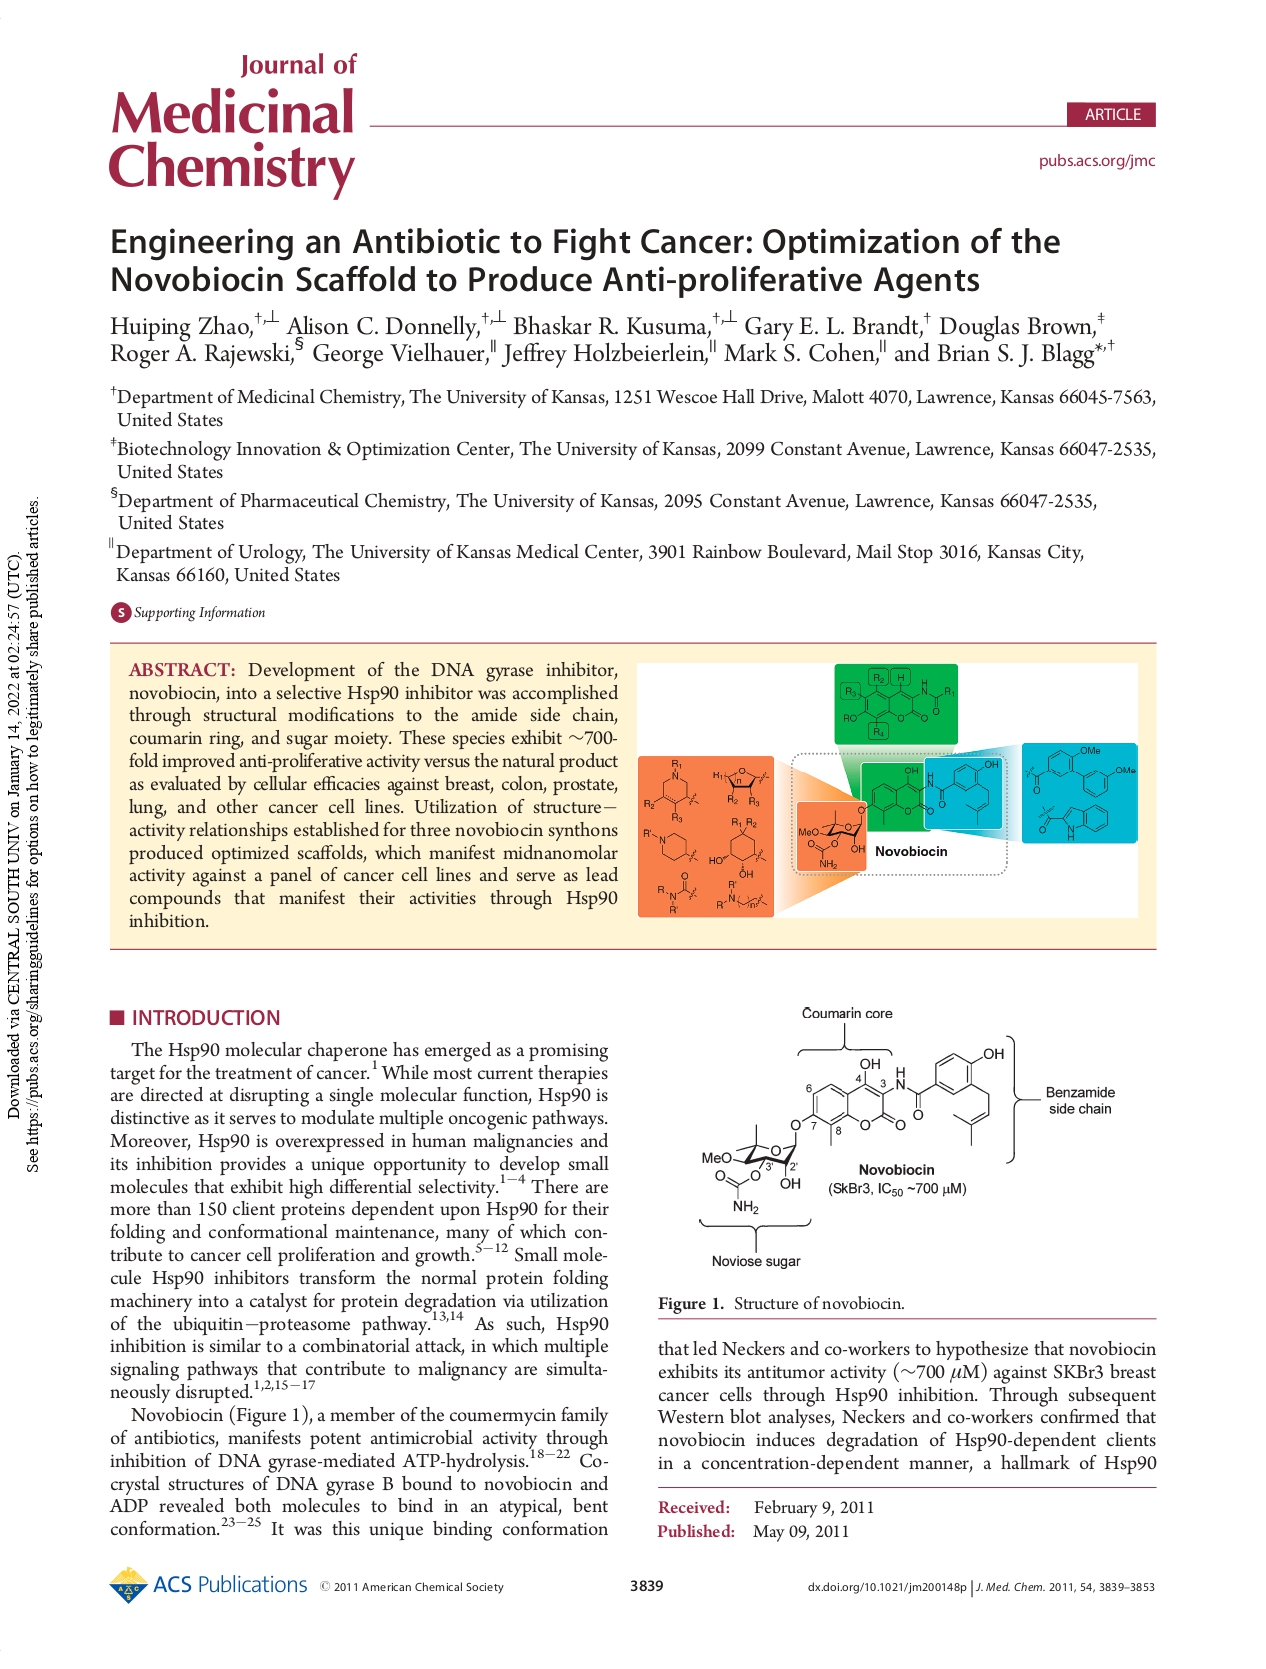exist_molecular: (697, 1047, 1007, 1218), (795, 758, 1001, 868), (1023, 745, 1137, 842), (840, 672, 956, 738), (706, 815, 769, 878), (641, 758, 702, 822), (709, 761, 771, 809), (642, 825, 702, 864), (652, 868, 699, 914), (711, 878, 771, 914)
